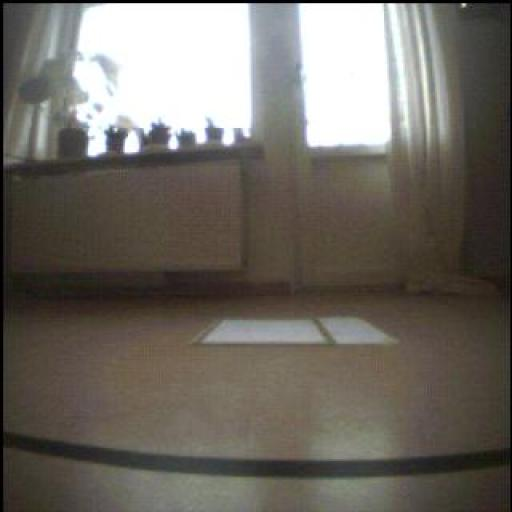Pad: (204, 314, 390, 346)
